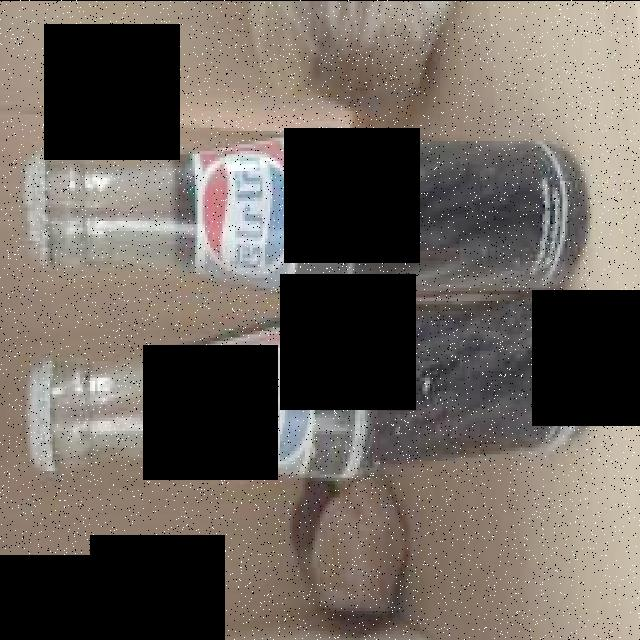glass-bottle: (8, 110, 609, 506)
